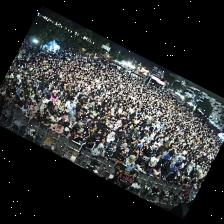person: (76, 139, 96, 158), (145, 154, 160, 173), (166, 163, 180, 178), (143, 146, 156, 162), (68, 128, 82, 142), (111, 150, 125, 163), (50, 122, 63, 134), (92, 144, 104, 157), (40, 114, 51, 127), (134, 158, 144, 172), (152, 166, 161, 181), (82, 126, 91, 140), (65, 98, 74, 112), (39, 100, 48, 114), (166, 172, 177, 183), (127, 147, 138, 158), (96, 137, 106, 149), (125, 155, 135, 167), (91, 129, 101, 141), (106, 132, 115, 145), (6, 92, 15, 105), (25, 109, 35, 120), (120, 129, 130, 140), (116, 143, 127, 153), (29, 100, 37, 113), (50, 106, 60, 116), (116, 138, 127, 147), (67, 117, 76, 128), (13, 97, 22, 108), (104, 146, 111, 160), (22, 101, 29, 115), (68, 107, 76, 119), (50, 112, 58, 124), (96, 119, 105, 129), (56, 101, 64, 112), (50, 93, 57, 105), (181, 177, 190, 186), (79, 122, 86, 133), (62, 128, 70, 137), (188, 179, 196, 188), (114, 120, 121, 130), (111, 142, 116, 156), (183, 177, 190, 186), (59, 117, 66, 126), (110, 177, 118, 184), (44, 108, 49, 115)
